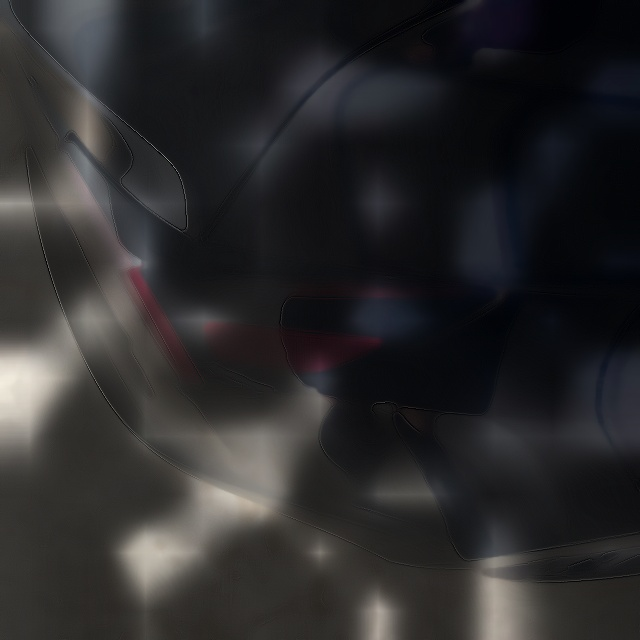reflector: (201, 322, 386, 373)
